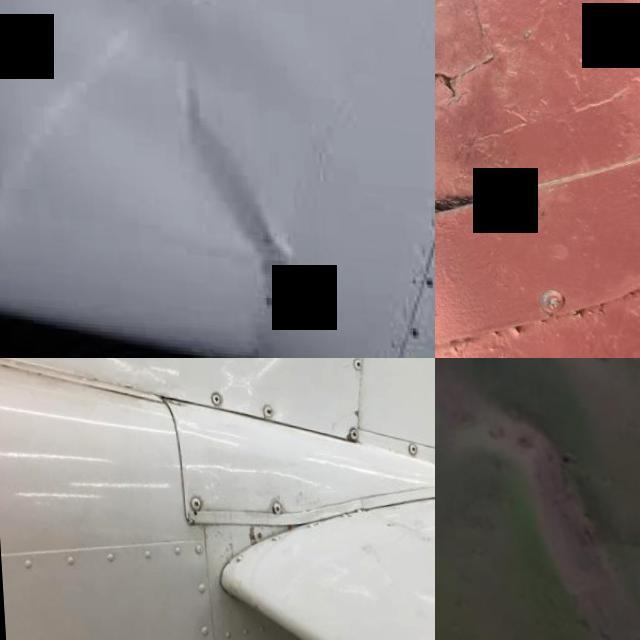Crack: (196, 498, 316, 583), (435, 27, 484, 152), (306, 386, 366, 447)
Dent: (435, 358, 640, 640), (180, 64, 289, 304)
